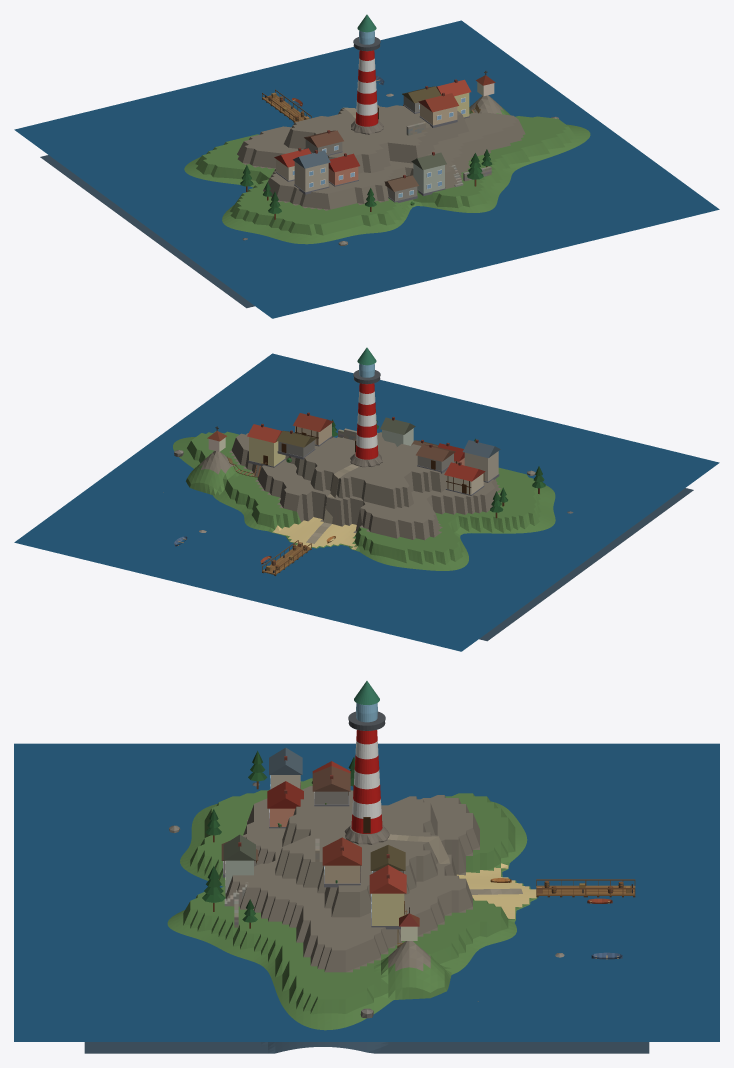
The model's file is scene_bad_v6_tree.obj.
The picture shows the model from 3 angles, top to bottom: view 1: azimuth 30°, elevation 25°; view 2: azimuth 150°, elevation 25°; view 3: azimuth 270°, elevation 25°; orthographic projection. The views are drawn at different scales.
Visible parts, largest first — view 1: water, terrain, lighthouse_tower, house_3_two_story, house_9_two_story, house_7_timber, house_4_timber, house_2_stone, house_8_stone, house_6_two_story, house_1_timber, house_5_stone; view 2: water, terrain, lighthouse_tower, house_6_two_story, house_3_two_story, house_1_timber, house_7_timber, house_5_stone, house_2_stone, house_9_two_story, path; view 3: water, terrain, lighthouse_tower, house_6_two_story, house_7_timber, house_2_stone, house_4_timber, house_9_two_story, house_3_two_story, path, house_5_stone, pier_2 (+1 smaller).
Boxes of the visible parts, left/top/right/bottom form: water: left=14, top=20, right=719, bottom=318; terrain: left=40, top=95, right=590, bottom=308; lighthouse_tower: left=355, top=50, right=378, bottom=126; house_3_two_story: left=293, top=150, right=330, bottom=194; house_9_two_story: left=411, top=152, right=446, bottom=195; house_7_timber: left=418, top=92, right=458, bottom=127; house_4_timber: left=328, top=153, right=359, bottom=186; house_2_stone: left=304, top=130, right=343, bottom=156; house_8_stone: left=384, top=175, right=418, bottom=202; house_6_two_story: left=436, top=79, right=471, bottom=118; house_1_timber: left=274, top=148, right=311, bottom=181; house_5_stone: left=402, top=86, right=441, bottom=113; water: left=14, top=353, right=719, bottom=651; terrain: left=173, top=431, right=693, bottom=641; lighthouse_tower: left=355, top=383, right=378, bottom=459; house_6_two_story: left=247, top=423, right=285, bottom=467; house_3_two_story: left=462, top=439, right=500, bottom=482; house_1_timber: left=444, top=462, right=485, bottom=495; house_7_timber: left=293, top=412, right=333, bottom=446; house_5_stone: left=276, top=430, right=316, bottom=459; house_2_stone: left=416, top=444, right=455, bottom=473; house_9_two_story: left=380, top=416, right=415, bottom=446; path: left=306, top=464, right=359, bottom=543; water: left=14, top=743, right=719, bottom=1041; terrain: left=84, top=778, right=649, bottom=1053; lighthouse_tower: left=351, top=730, right=382, bottom=833; house_6_two_story: left=369, top=865, right=406, bottom=929; house_7_timber: left=322, top=837, right=361, bottom=887; house_2_stone: left=312, top=766, right=350, bottom=806; house_4_timber: left=267, top=781, right=303, bottom=828; house_9_two_story: left=223, top=834, right=255, bottom=894; house_3_two_story: left=269, top=747, right=302, bottom=789; path: left=387, top=834, right=522, bottom=894; house_5_stone: left=370, top=845, right=405, bottom=873; pier_2: left=586, top=879, right=635, bottom=897.
Bounding box in the file's own units: 100 × 35.06 × 100.
